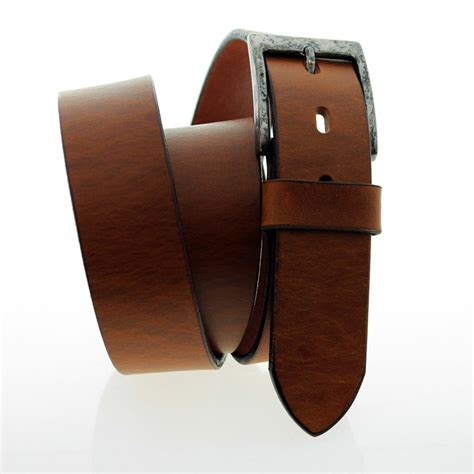cuero: (55, 40, 382, 438)
